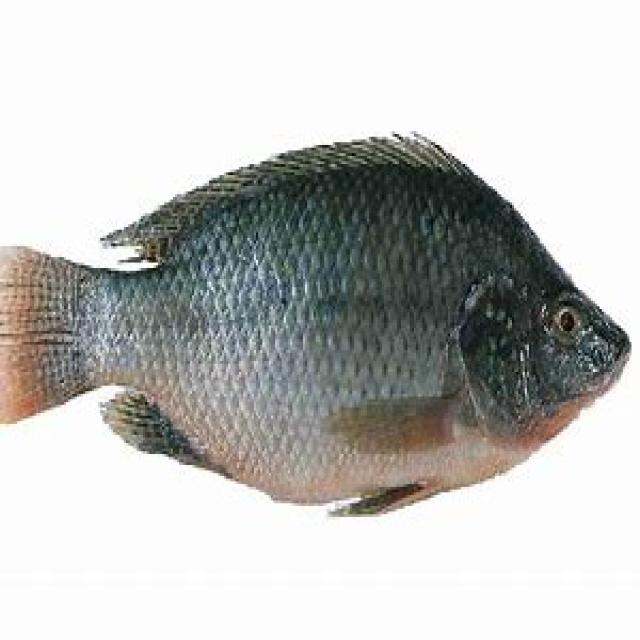Tilapia: (0, 133, 634, 518)
